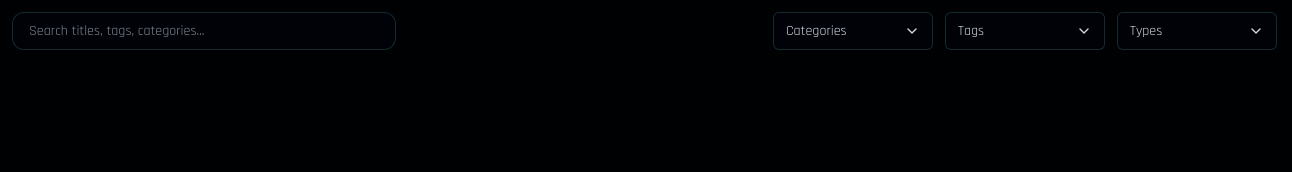
it: FilterBar › closes a dropdown when clicking the same button again
Click the button "Categories".
click(853, 31)  # box [773,12,933,50]
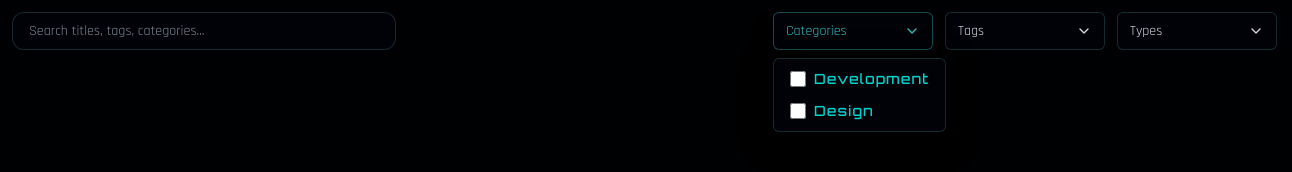
Expected: the menu is shown, [773,58,946,132]
Click the button "Categories".
click(853, 31)  # box [773,12,933,50]
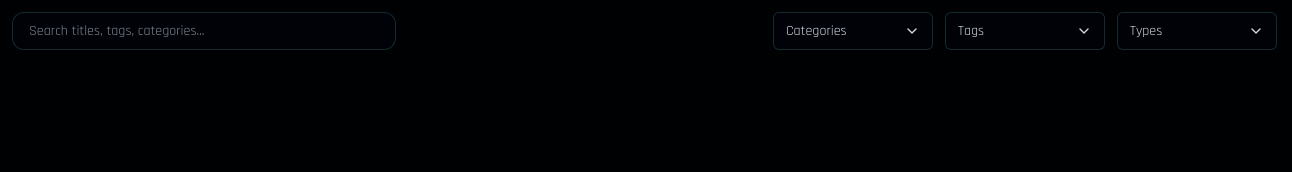
Expected: the menu is gone
